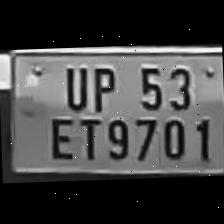0: (158, 113, 187, 157)
1: (188, 114, 216, 160)
3: (164, 59, 192, 110)
5: (133, 61, 163, 110)
7: (129, 111, 157, 158)
9: (102, 112, 130, 160)
E: (44, 110, 78, 162)
P: (87, 60, 117, 111)
T: (72, 114, 102, 160)
U: (58, 59, 88, 110)
